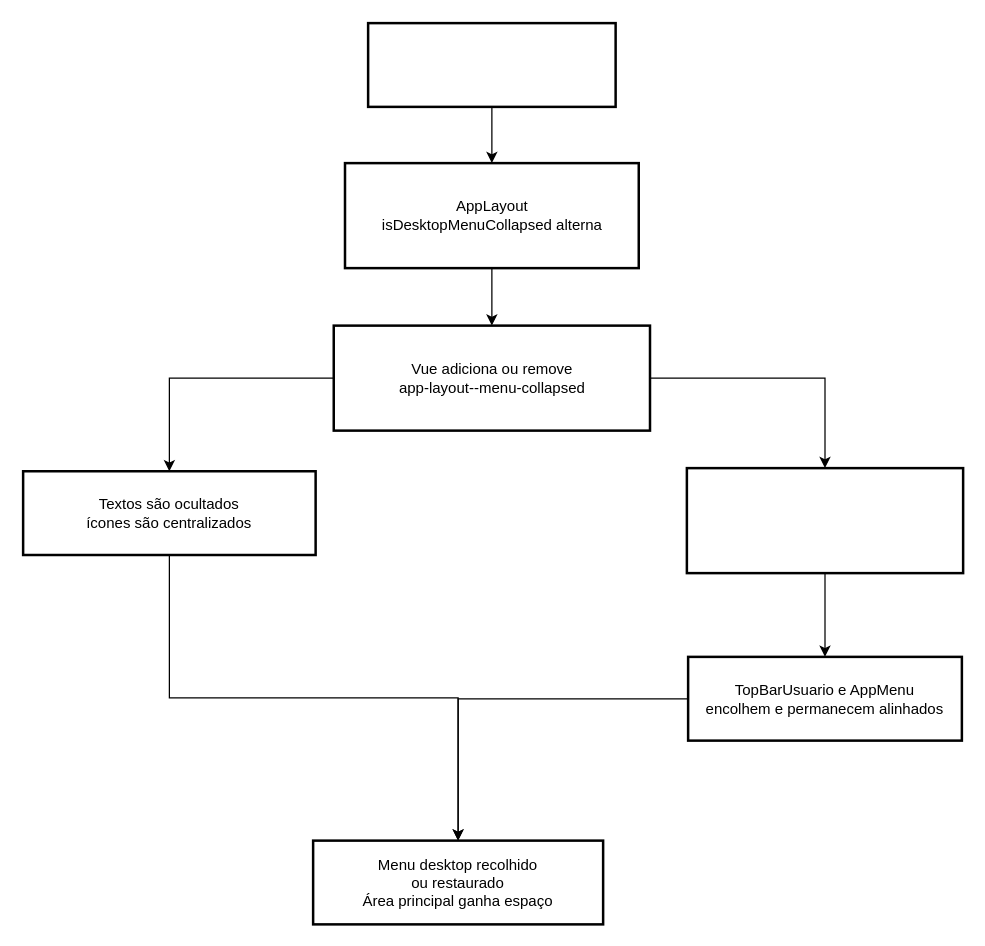
Some shapes in this 985 by 946 pixel diagram are drawn without their labels. The shapes that lost their labels are listed below. From the top down, each one's centre as x and y in pixels, then its label:
At point (491, 64): "Usuário clica em ☰ no desktop".
At point (824, 520): "CSS redefine --layout-sidebar-width para 4.5rem".
